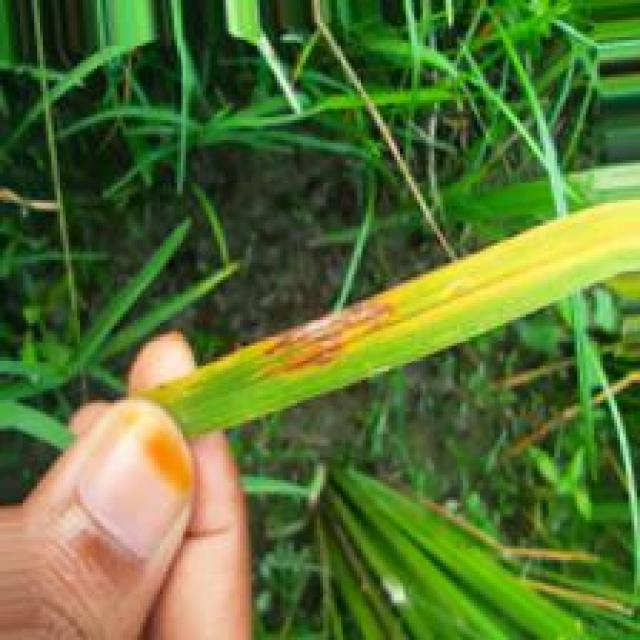Narrow_Brown_Leaf_Spot: (224, 292, 394, 386)
